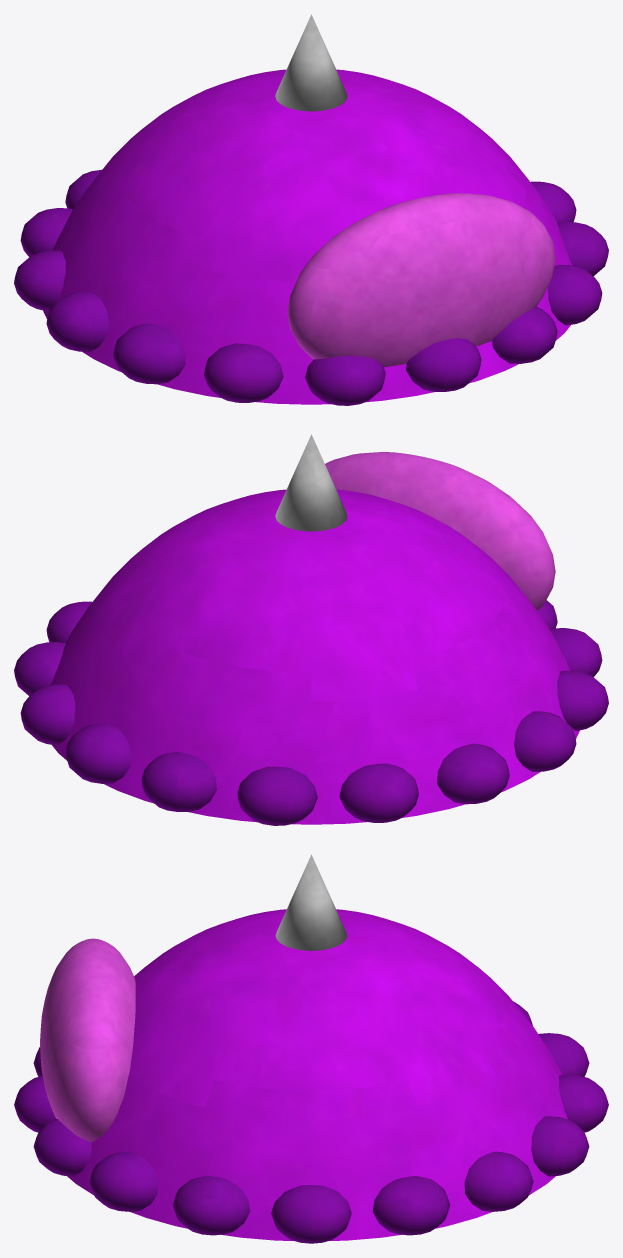
3 renders of one model, top to bottom at view 1: azimuth 30°, elevation 25°; view 2: azimuth 150°, elevation 25°; view 3: azimuth 270°, elevation 25°, orthographic.
Visible parts, largest first — view 1: Dome, Face, Skirt, Horn; view 2: Dome, Skirt, Face, Horn; view 3: Dome, Skirt, Face, Horn.
Part boxes in pixels (x1=…): Dome: x1=43, y1=69, x2=572, y2=404; Face: x1=287, y1=193, x2=555, y2=367; Skirt: x1=14, y1=169, x2=608, y2=405; Horn: x1=275, y1=14, x2=347, y2=111; Dome: x1=50, y1=489, x2=579, y2=824; Skirt: x1=14, y1=600, x2=608, y2=825; Face: x1=325, y1=452, x2=555, y2=610; Horn: x1=275, y1=434, x2=347, y2=531; Dome: x1=55, y1=909, x2=567, y2=1240; Skirt: x1=14, y1=1001, x2=608, y2=1243; Face: x1=40, y1=938, x2=135, y2=1142; Horn: x1=275, y1=854, x2=347, y2=950.
Bounding box in the file's own units: 0.736 × 0.377 × 0.736.
Materials: 4 (4 with a texture image).
